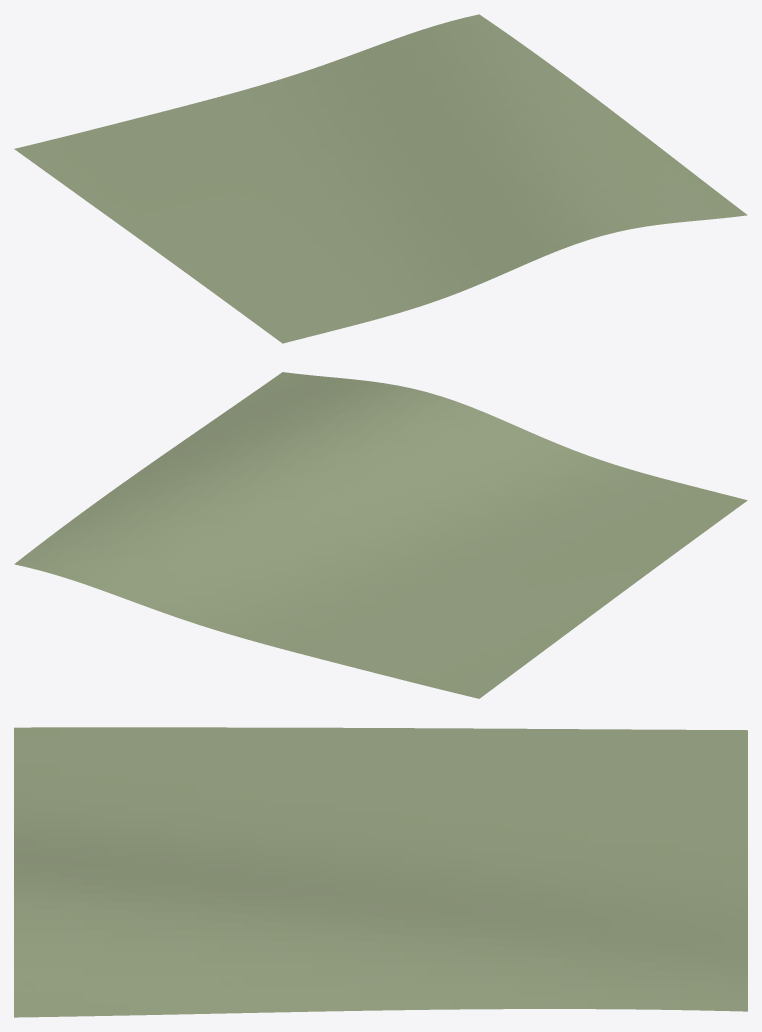
Rendered from desert-2-3.glb.
3 renders of one model, top to bottom at view 1: azimuth 30°, elevation 25°; view 2: azimuth 150°, elevation 25°; view 3: azimuth 270°, elevation 25°, orthographic. The views are drawn at different scales.
Parts seen in each view (by area): view 1: desert-2-3; view 2: desert-2-3; view 3: desert-2-3.
Part boxes in pixels (x1,y1,x2,y2): desert-2-3: [14, 14, 747, 343]; desert-2-3: [14, 372, 747, 698]; desert-2-3: [14, 727, 747, 1017].
Size of the model in its own units: 512 by 33.59 by 512.
